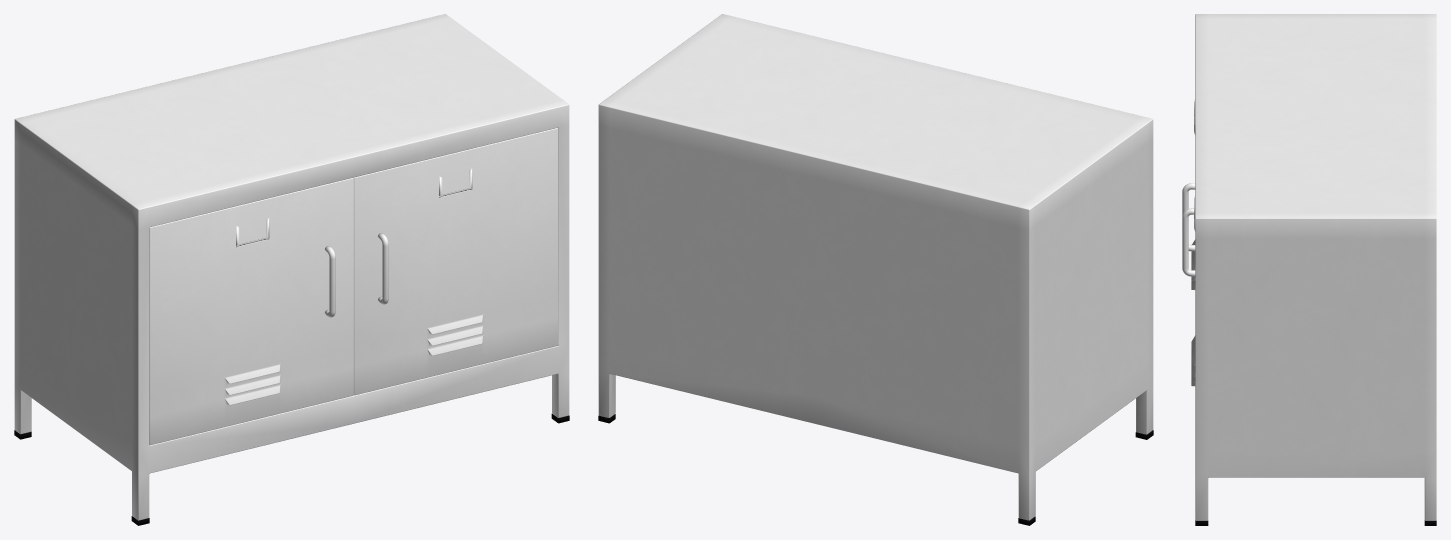
File: design18.obj
3 views of the same model, side by side, from view 1: azimuth 30°, elevation 25°; view 2: azimuth 150°, elevation 25°; view 3: azimuth 270°, elevation 25° (orthographic). The views are drawn at different scales.
Visible parts, largest first — view 1: Box093, Object008, Line001; view 2: Box093; view 3: Box093, Line001, Object008.
Part boxes in pixels (x1,y1,x2,y2): Box093: (14,14,569,520); Object008: (149,128,558,445); Line001: (324,233,388,317); Box093: (598,14,1153,520); Box093: (1195,14,1436,520); Line001: (1182,183,1195,276); Object008: (1191,99,1195,386).
Size of the model in its own units: 913 by 640 by 480.
Materials: 2 (1 with a texture image).
